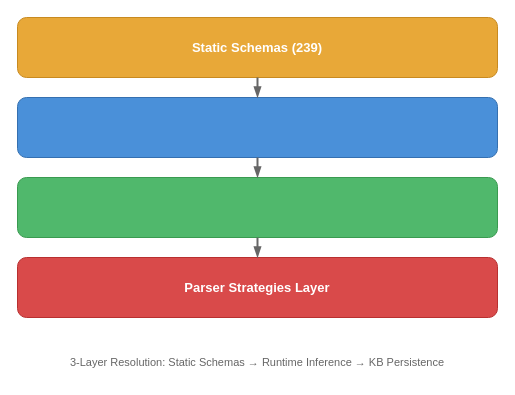
Image size: 515x395. Some labels were removed from this diagram. Here are the shapes that lost their labels. From the top down, the centre of each, then its label:
pixel 257 127: Loader / Registry / Service Layer
pixel 257 207: Compiler Layer
